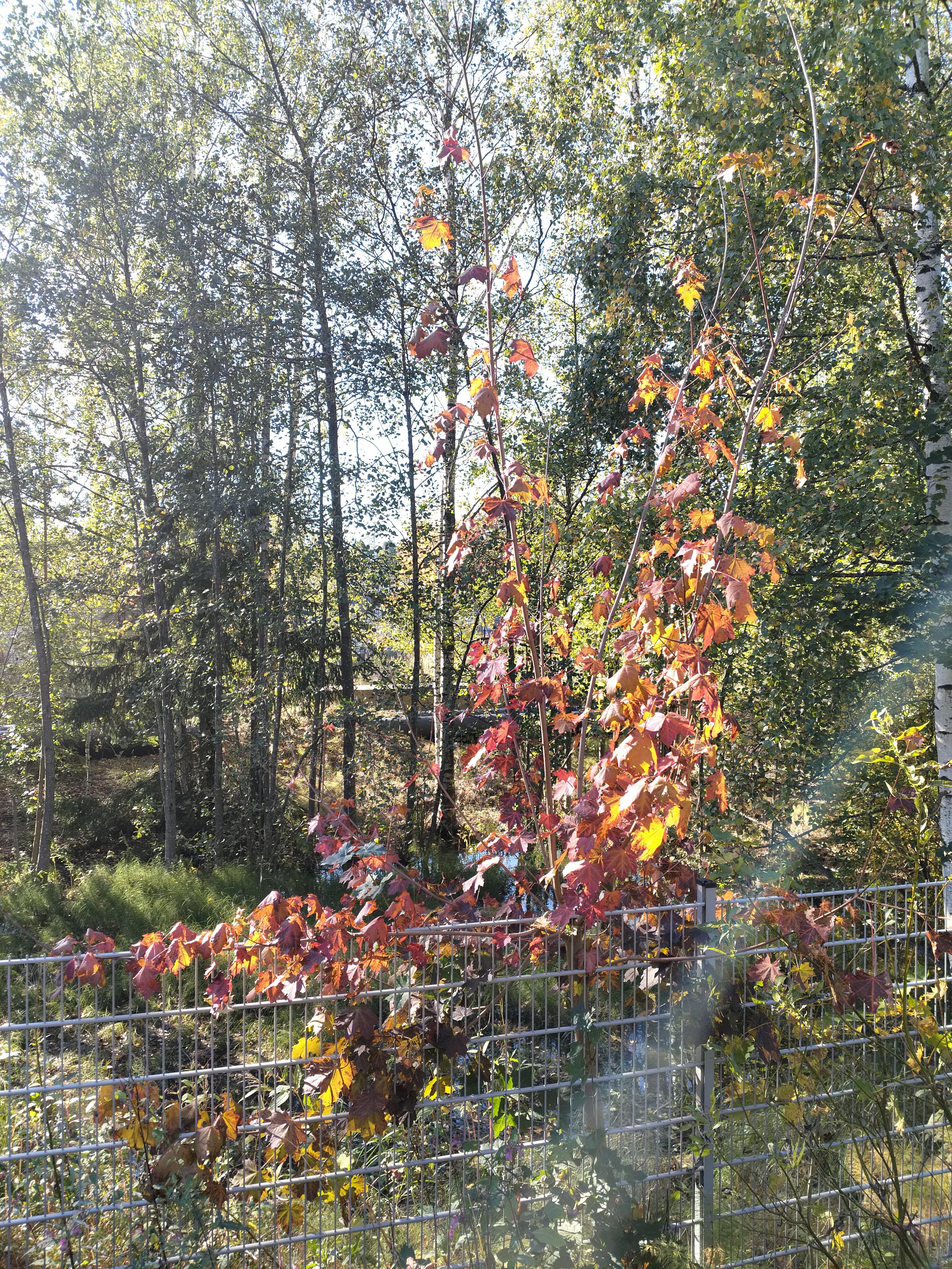Maple: (476, 364, 752, 922)
